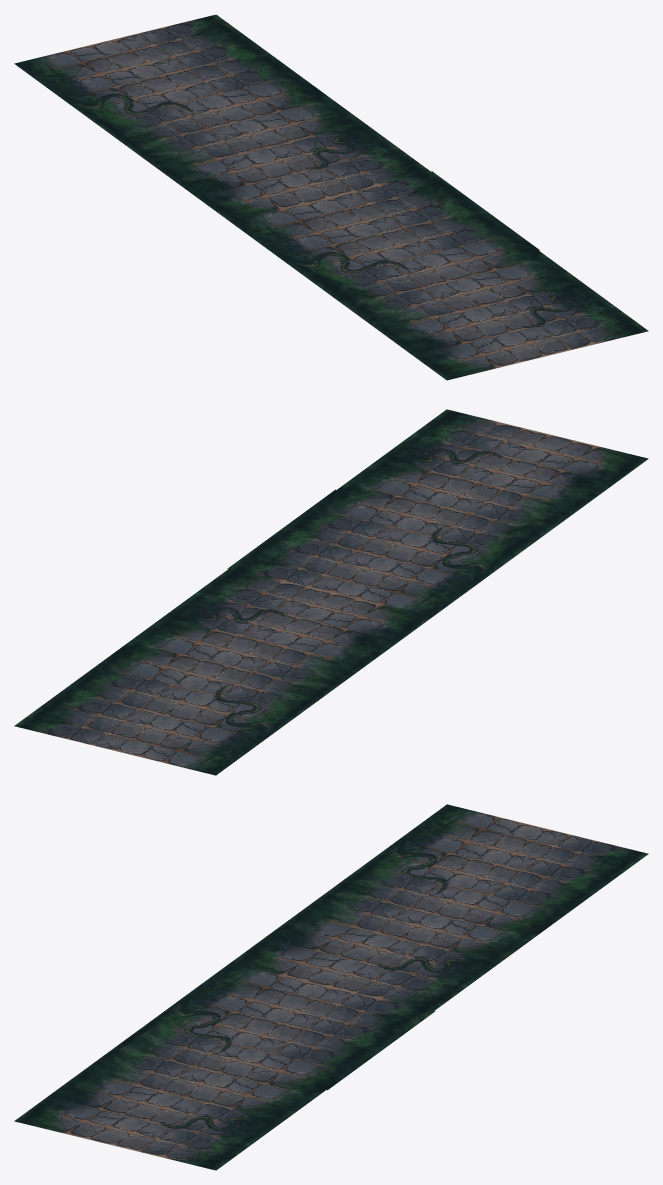
Rendered from Cimelia_Ground_01.FBX.
3 views of the same model, one above another, from view 1: azimuth 30°, elevation 25°; view 2: azimuth 150°, elevation 25°; view 3: azimuth 330°, elevation 25° (orthographic).
Visible parts, largest first — view 1: Cimelia_Ground_01; view 2: Cimelia_Ground_01; view 3: Cimelia_Ground_01.
Part boxes in pixels (x1,y1,x2,y2): Cimelia_Ground_01: (14,14,648,380); Cimelia_Ground_01: (14,409,648,775); Cimelia_Ground_01: (14,804,648,1170).
Size of the model in its own units: 8.05 by 0.2619 by 29.68.
